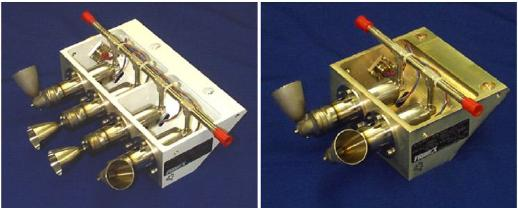thruster: (273, 78, 318, 140), (325, 129, 368, 168), (12, 64, 49, 103), (97, 157, 138, 191), (46, 144, 85, 174), (23, 120, 60, 150)
